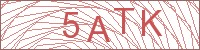5: (62, 11, 80, 39)
A: (85, 15, 111, 43)
K: (140, 9, 164, 37)
T: (113, 7, 137, 35)
